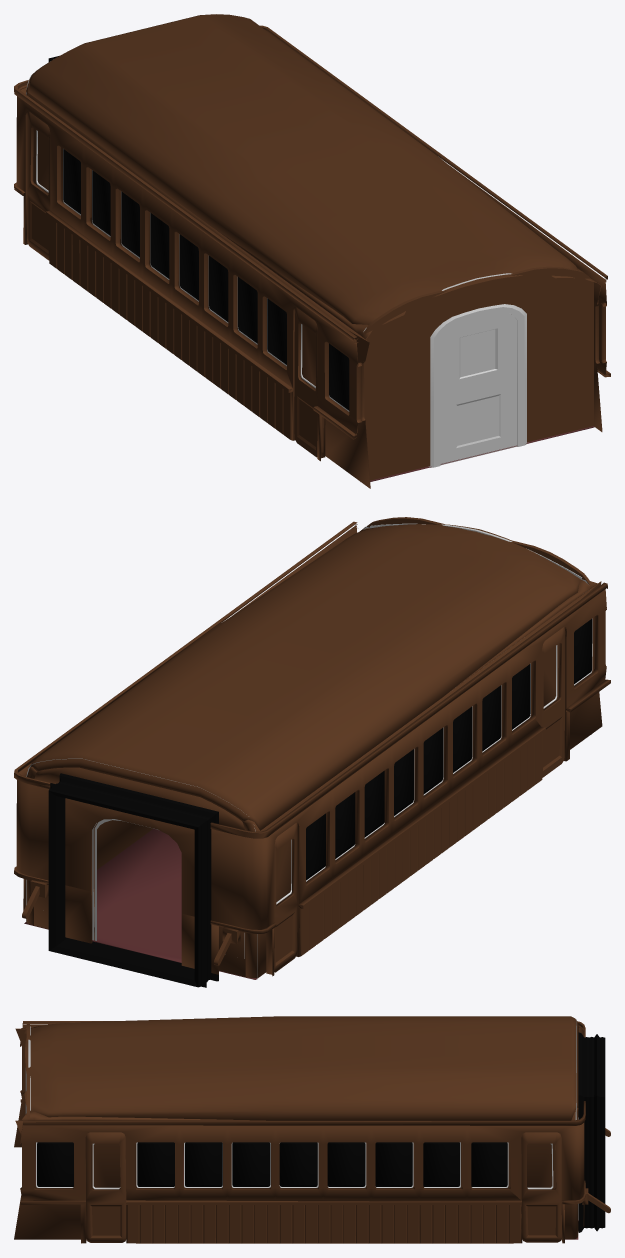
File: vagoneBar.fbx
3 views of the same model, one above another, from view 1: azimuth 30°, elevation 25°; view 2: azimuth 150°, elevation 25°; view 3: azimuth 270°, elevation 25° (orthographic). The views are drawn at different scales.
Parts seen in each view (by area): view 1: Tetto, Carrozzeria_esterna, Parete_interno.002, Porta_anteriore, Vetri, Stipite_anteriore, Finestre; view 2: Tetto, Carrozzeria_esterna, Parete_interno.002, Aggangio, Vetri, Pavimento.002, Stipite_posteriore, Finestre; view 3: Tetto, Carrozzeria_esterna, Vetri, Parete_interno.002, Aggangio, Finestre.
Part boxes in pixels (box(x1,y1,x2,y2)): Tetto: box(28, 14, 578, 325); Carrozzeria_esterna: box(14, 25, 610, 461); Parete_interno.002: box(26, 81, 602, 488); Porta_anteriore: box(440, 313, 517, 465); Vetri: box(63, 149, 349, 410); Stipite_anteriore: box(360, 273, 527, 482); Finestre: box(36, 130, 349, 411); Tetto: box(29, 524, 580, 830); Carrozzeria_esterna: box(14, 521, 610, 976); Parete_interno.002: box(26, 517, 602, 978); Aggangio: box(48, 773, 218, 987); Vetri: box(306, 619, 592, 880); Pavimento.002: box(24, 828, 258, 979); Stipite_posteriore: box(26, 758, 257, 979); Finestre: box(276, 618, 592, 904); Tetto: box(24, 1016, 578, 1120); Carrozzeria_esterna: box(20, 1021, 610, 1243); Vetri: box(37, 1142, 507, 1186); Parete_interno.002: box(14, 1024, 578, 1239); Aggangio: box(578, 1032, 605, 1232); Finestre: box(36, 1142, 553, 1189).
Bounding box in the file's own units: 453 × 321 × 1118.
